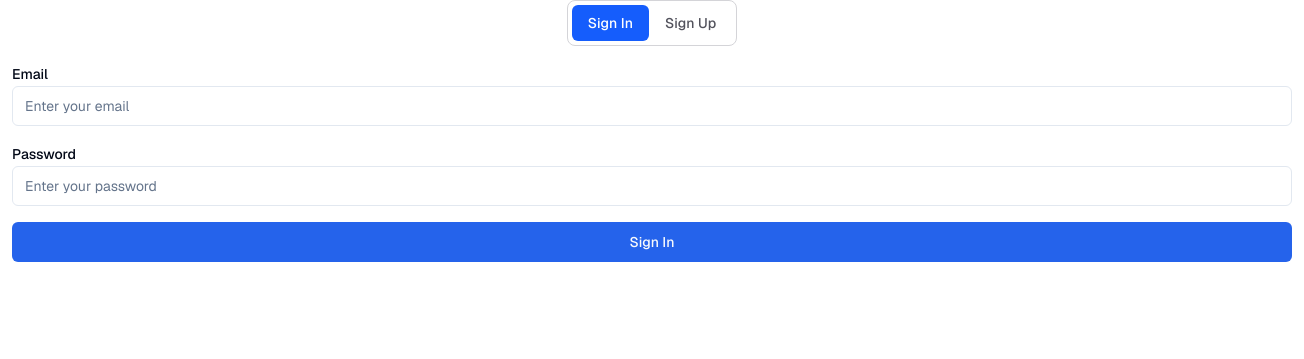
Test case: EmailPasswordForm Component (RED PHASE) › Form Rendering › should switch to sign up form when Sign Up tab is clicked
Click the button "Sign Up": (691, 23) [649,5,732,41]
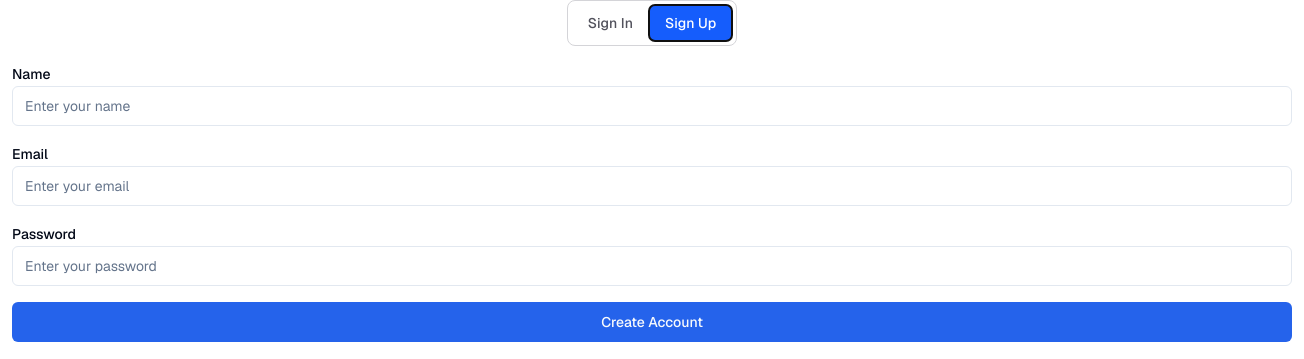
Expected: the field labelled "Email" is shown, [12,166,1292,206]
Expected: the field labelled "Name" is shown, [12,86,1292,126]
Expected: the button "Create Account" is shown, [12,302,1292,342]
